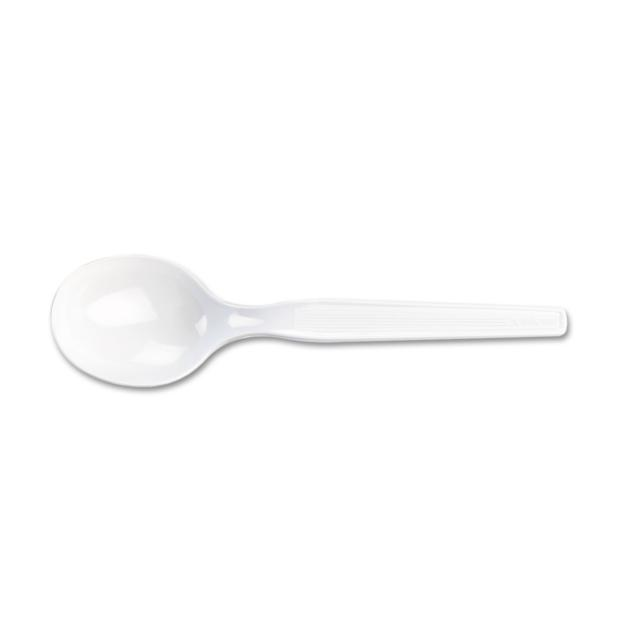spoon: (31, 241, 586, 389)
